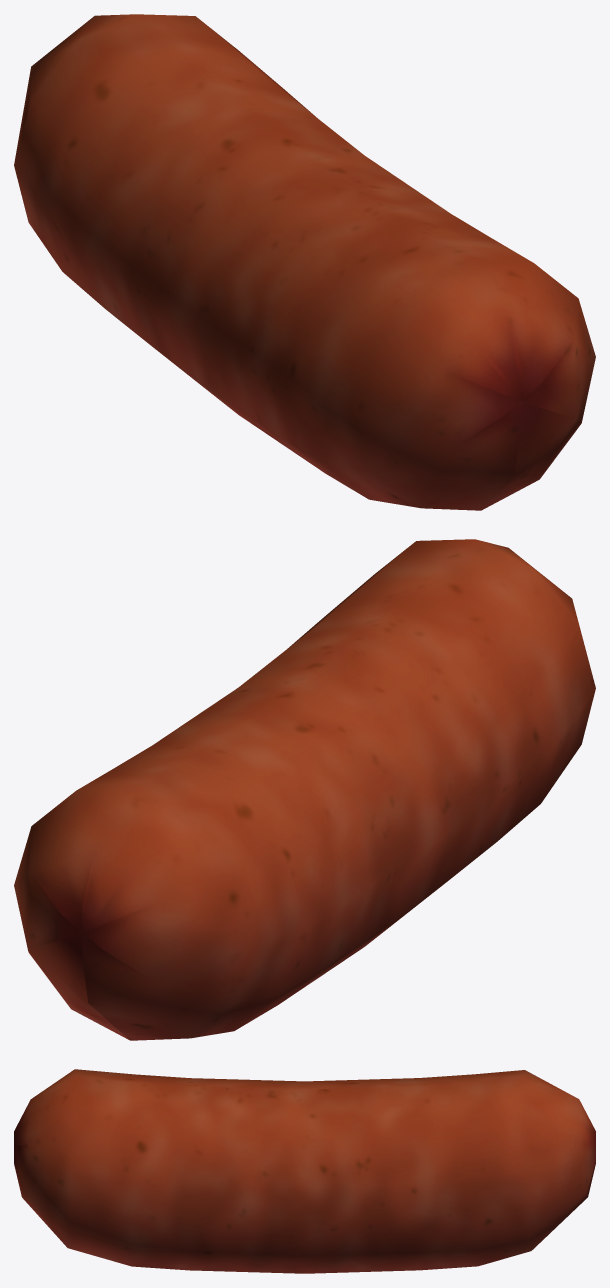
The model's file is MSH_SausageMaker_Sausage.fbx.
3 renders of one model, top to bottom at view 1: azimuth 30°, elevation 25°; view 2: azimuth 150°, elevation 25°; view 3: azimuth 270°, elevation 25°, orthographic. The views are drawn at different scales.
Visible parts, largest first — view 1: MSH_SausageMaker_Sausage.001; view 2: MSH_SausageMaker_Sausage.001; view 3: MSH_SausageMaker_Sausage.001.
Part boxes in pixels (x1,y1,x2,y2): MSH_SausageMaker_Sausage.001: [14, 14, 595, 510]; MSH_SausageMaker_Sausage.001: [14, 539, 595, 1040]; MSH_SausageMaker_Sausage.001: [14, 1069, 595, 1273].
Size of the model in its own units: 0.6751 by 0.7233 by 2.03.
